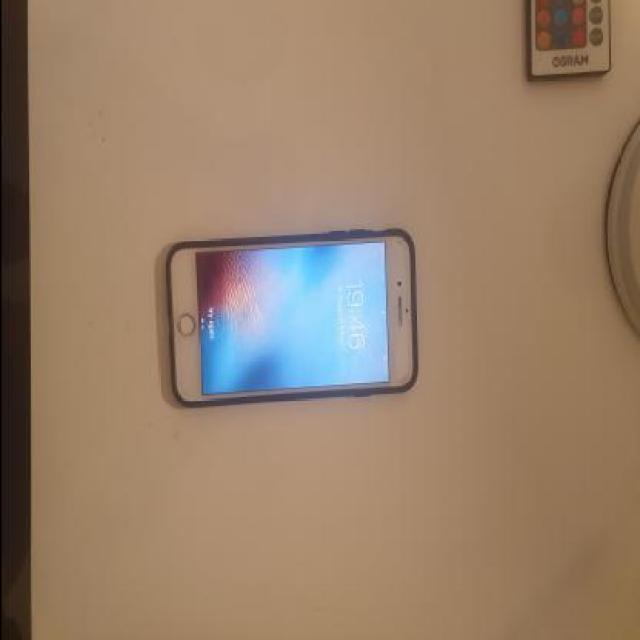phone: (159, 232, 416, 406)
